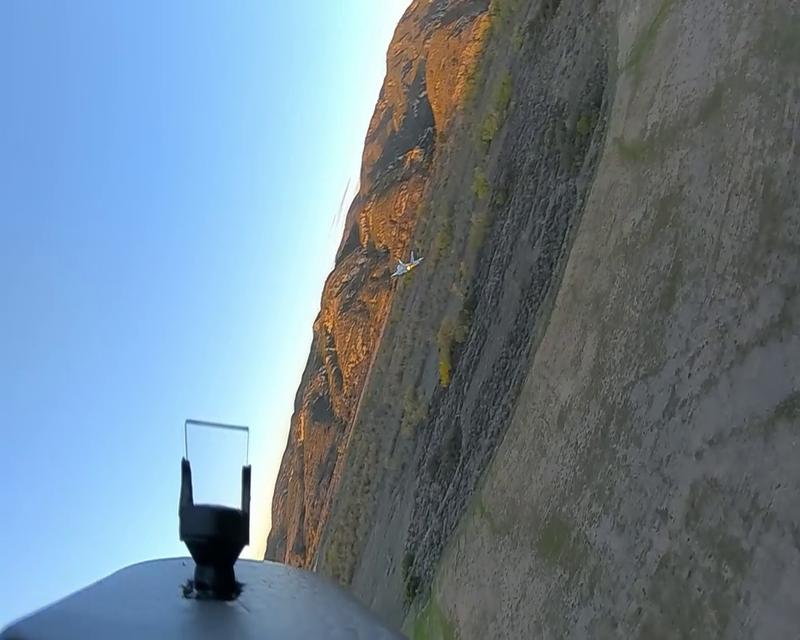UAV: (391, 250, 425, 278)
